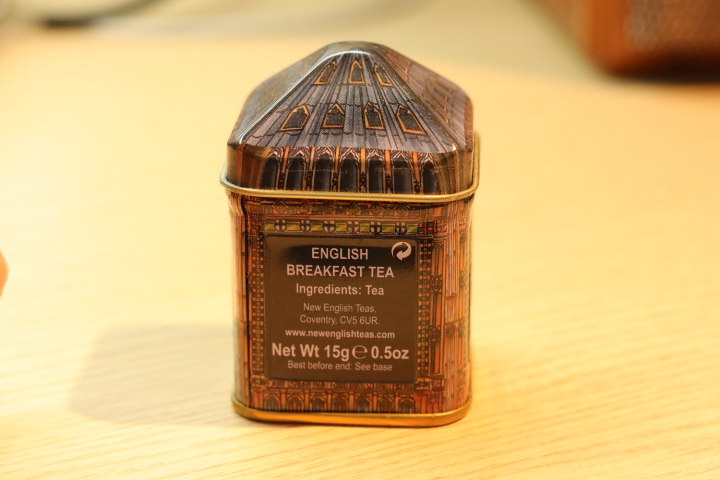Big Ben: (189, 28, 519, 438)
